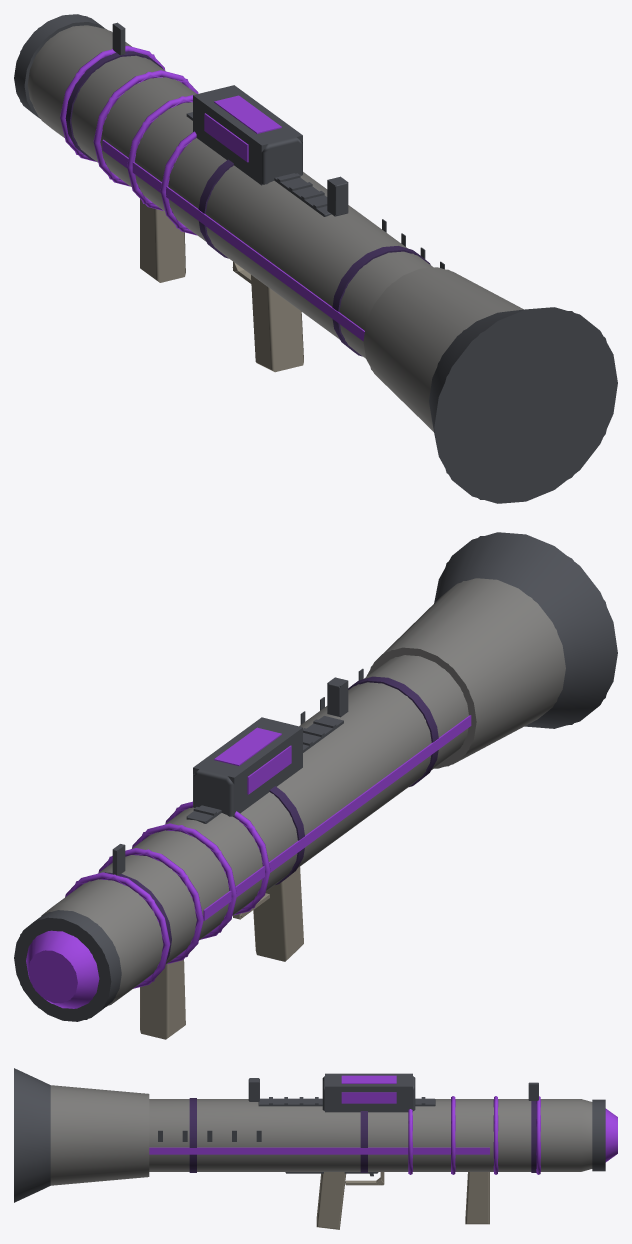
File: sing.glb
The picture shows the model from 3 angles, top to bottom: view 1: azimuth 30°, elevation 25°; view 2: azimuth 150°, elevation 25°; view 3: azimuth 270°, elevation 25°; orthographic projection. The views are drawn at different scales.
Visible parts, largest first — view 1: L0, L1; view 2: L0, L1; view 3: L0, L1.
Boxes of the visible parts, x1,y1,x2,y2 form: L0: (14, 14, 617, 503); L1: (20, 16, 617, 501); L0: (14, 532, 617, 1039); L1: (15, 536, 606, 1020); L0: (14, 1068, 617, 1229); L1: (14, 1068, 617, 1202).
Bounding box in the file's own units: 0.222 × 0.274 × 0.99.
